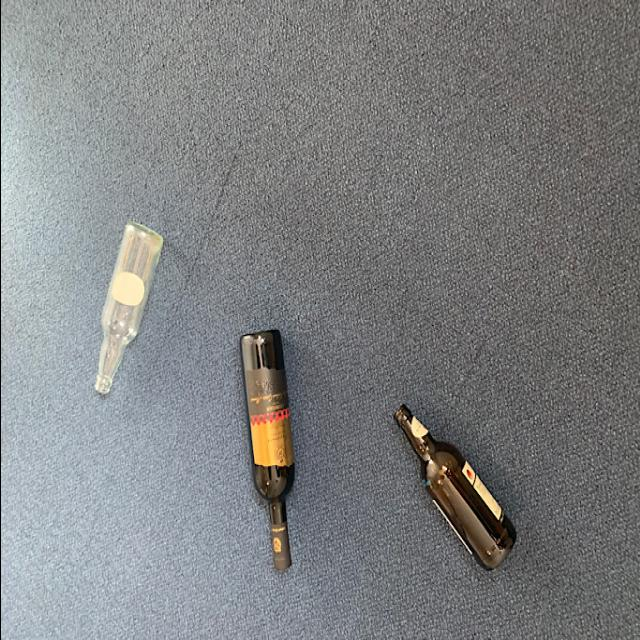Glass Bottle: (382, 404, 514, 575), (236, 329, 295, 571), (89, 218, 163, 402)
